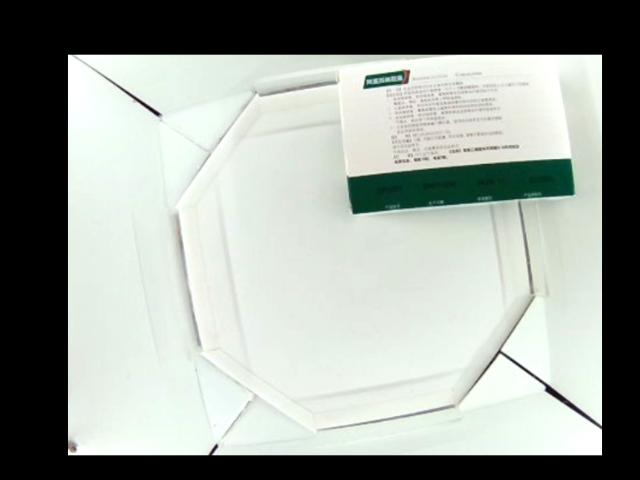Medicine: (336, 55, 576, 216)
